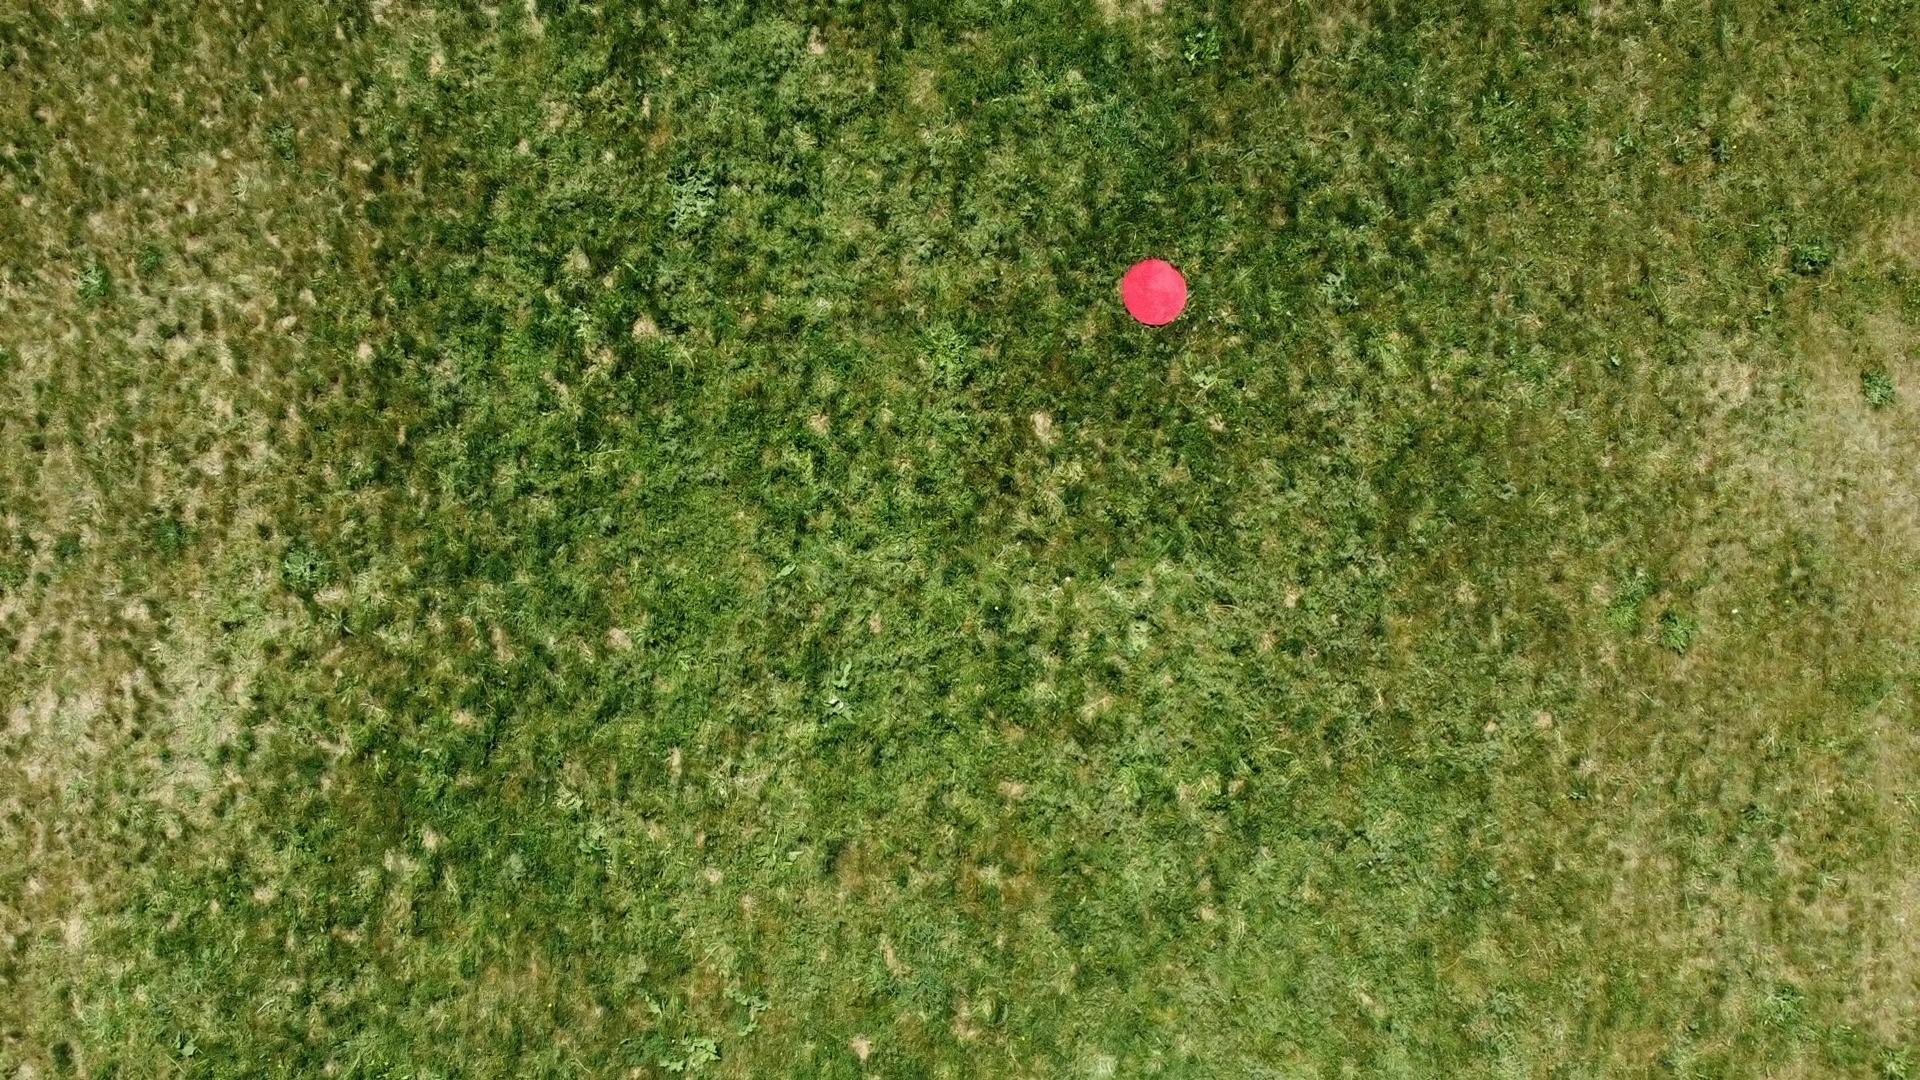Red: (1122, 257, 1188, 328)
